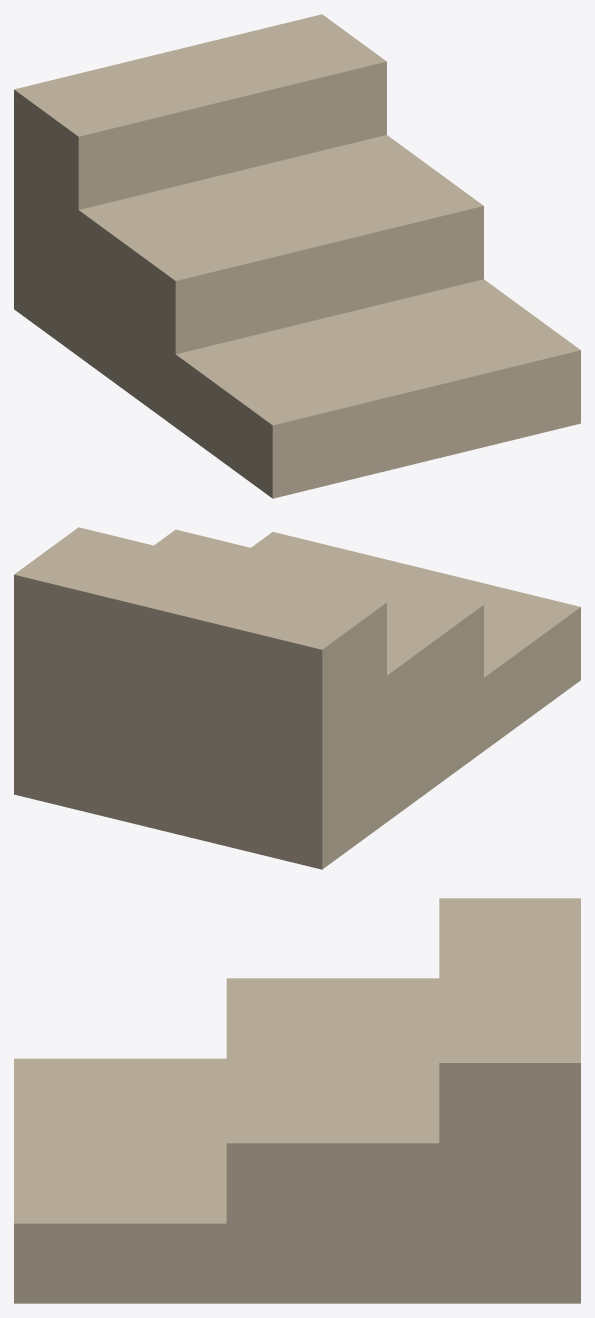
File: SM_BM_BE_MountingBlock.glb
3 views of the same model, one above another, from view 1: azimuth 30°, elevation 25°; view 2: azimuth 150°, elevation 25°; view 3: azimuth 270°, elevation 25° (orthographic). The views are drawn at different scales.
Visible parts, largest first — view 1: SM_BM_BE_MountingBlock; view 2: SM_BM_BE_MountingBlock; view 3: SM_BM_BE_MountingBlock.
Part boxes in pixels (x1,y1,x2,y2): SM_BM_BE_MountingBlock: (14, 14, 580, 498); SM_BM_BE_MountingBlock: (14, 527, 580, 869); SM_BM_BE_MountingBlock: (14, 898, 580, 1303).
Size of the model in its own units: 1.1 by 0.75 by 1.6.
